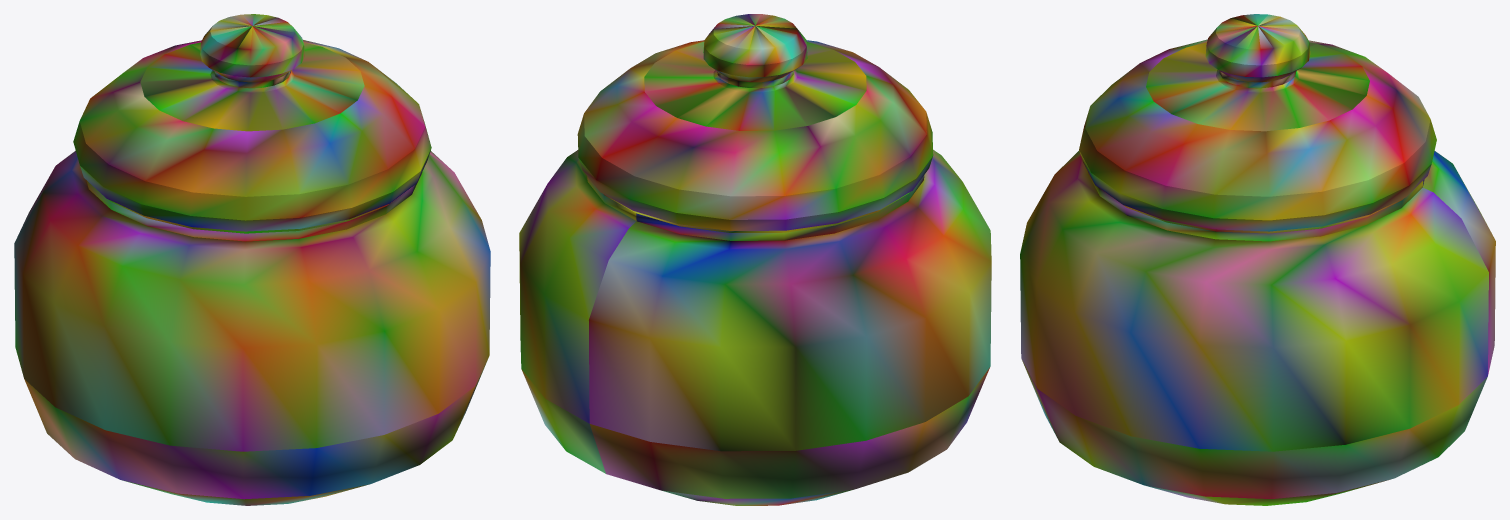
The model's file is Pot01.fbx.
3 renders of one model, left to right at view 1: azimuth 30°, elevation 25°; view 2: azimuth 150°, elevation 25°; view 3: azimuth 270°, elevation 25°, orthographic.
Parts seen in each view (by area): view 1: Pot01; view 2: Pot01; view 3: Pot01.
Part boxes in pixels (left/top/right/bottom): Pot01: left=14, top=14, right=490, bottom=505; Pot01: left=519, top=14, right=991, bottom=505; Pot01: left=1020, top=14, right=1495, bottom=505.
Size of the model in its own units: 81.84 by 81.31 by 81.84.
